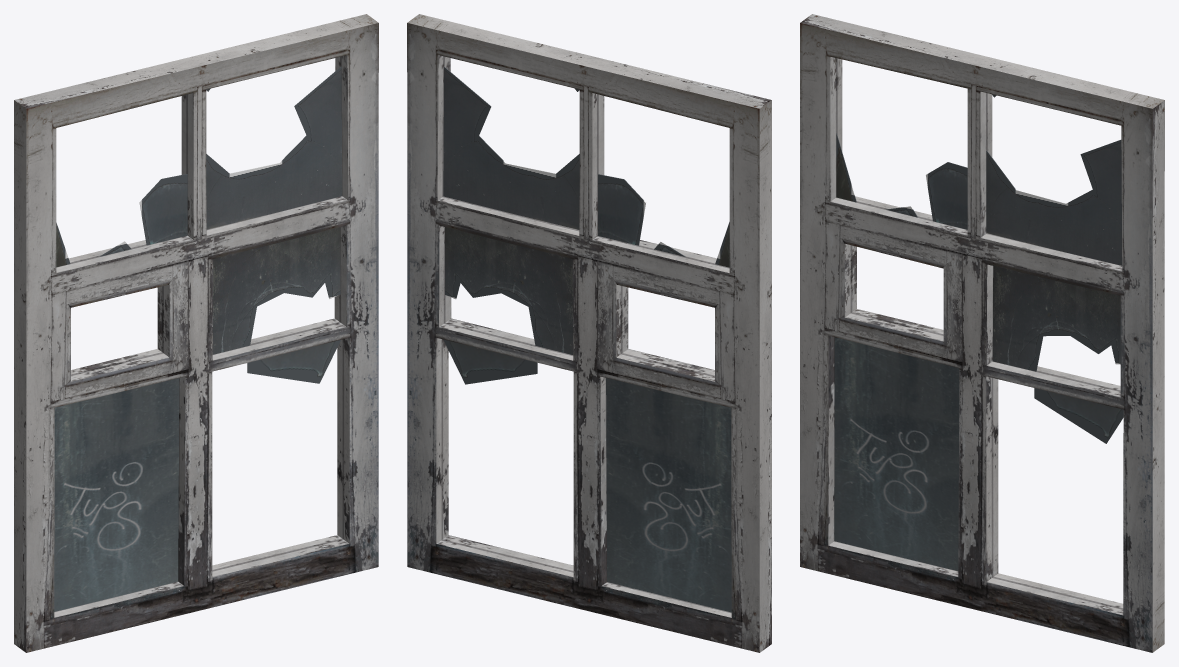
File: Windows_05_2.FBX
The picture shows the model from 3 angles, left to right: view 1: azimuth 30°, elevation 25°; view 2: azimuth 150°, elevation 25°; view 3: azimuth 330°, elevation 25°; orthographic projection.
Visible parts, largest first — view 1: Windows_05_2, Windows_05_2glass (×5); view 2: Windows_05_2, Windows_05_2glass (×5); view 3: Windows_05_2, Windows_05_2glass (×5).
Part boxes in pixels (x1,y1,x2,y2): Windows_05_2: [14, 14, 378, 652]; Windows_05_2glass (×5): [54, 66, 342, 611]; Windows_05_2: [407, 14, 771, 652]; Windows_05_2glass (×5): [443, 67, 731, 612]; Windows_05_2: [800, 14, 1164, 652]; Windows_05_2glass (×5): [834, 94, 1123, 570].
Size of the model in its own units: 102 by 6.08 by 151.
Materials: 2 (2 with a texture image).
